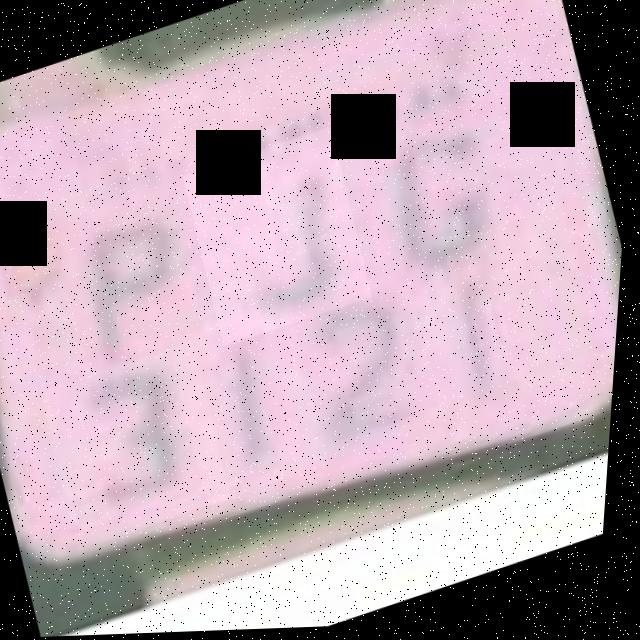1: (164, 301, 344, 509)
2: (278, 263, 467, 469)
3: (37, 340, 246, 552)
J: (176, 127, 385, 350)
P: (41, 183, 227, 398)
